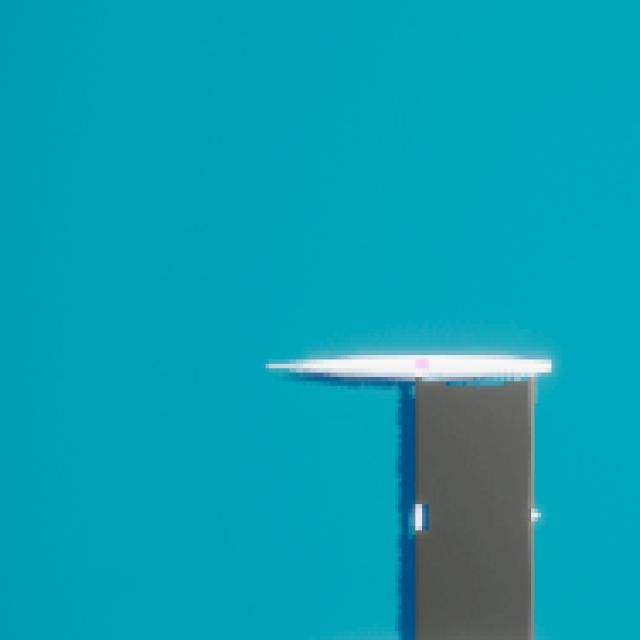boat: (262, 333, 555, 640)
drone: (419, 386, 531, 640)
